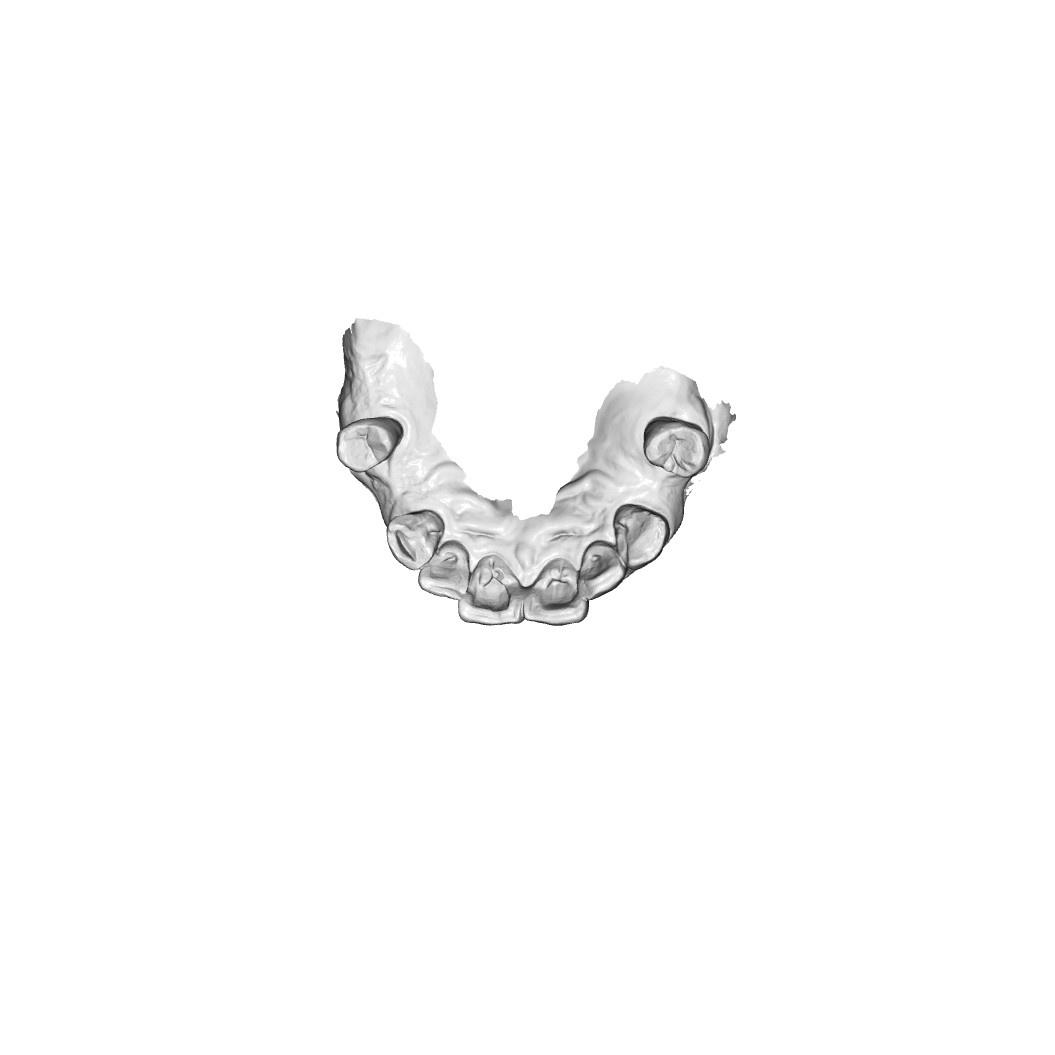canine: (611, 501, 671, 570), (385, 505, 444, 568)
incisor: (519, 560, 588, 630), (457, 560, 524, 627), (579, 540, 626, 603), (418, 546, 470, 602)
premolar: (640, 413, 710, 480), (333, 413, 405, 475)
